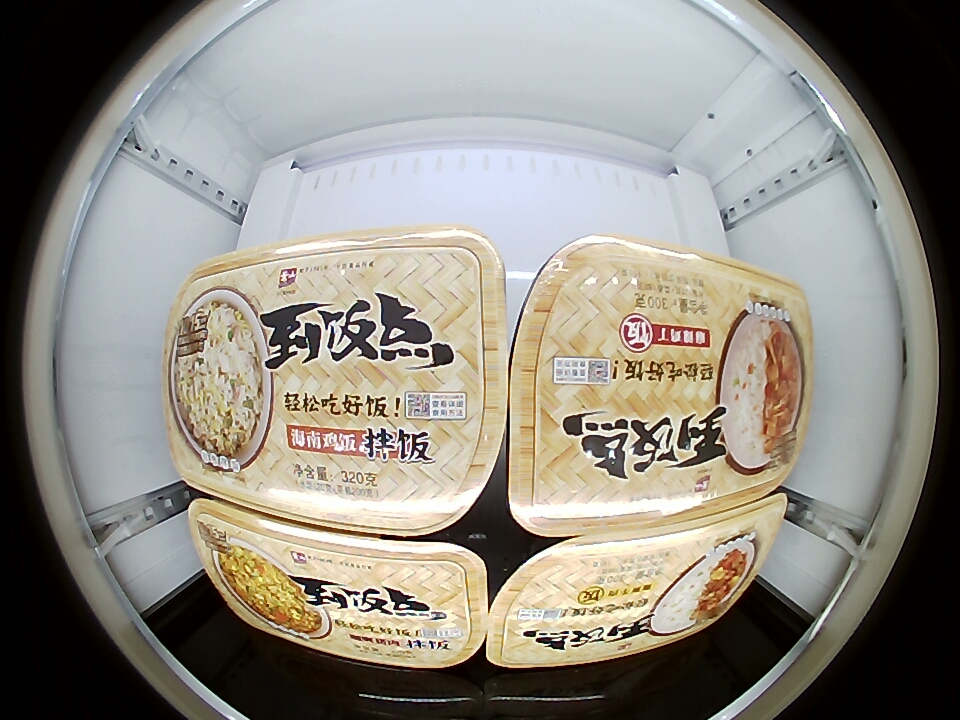daofandian1: (159, 232, 510, 535)
daofandian2: (484, 501, 785, 668)
daofandian3: (189, 496, 490, 670)
daofandian4: (503, 237, 815, 536)
